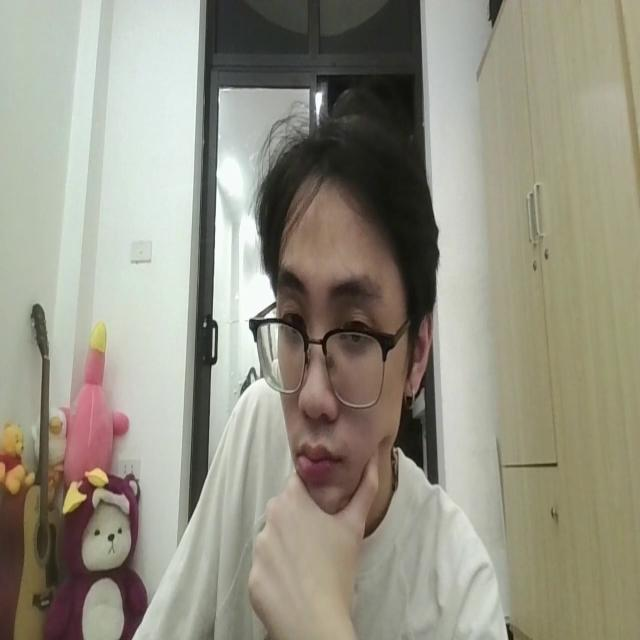student: (102, 97, 515, 640)
